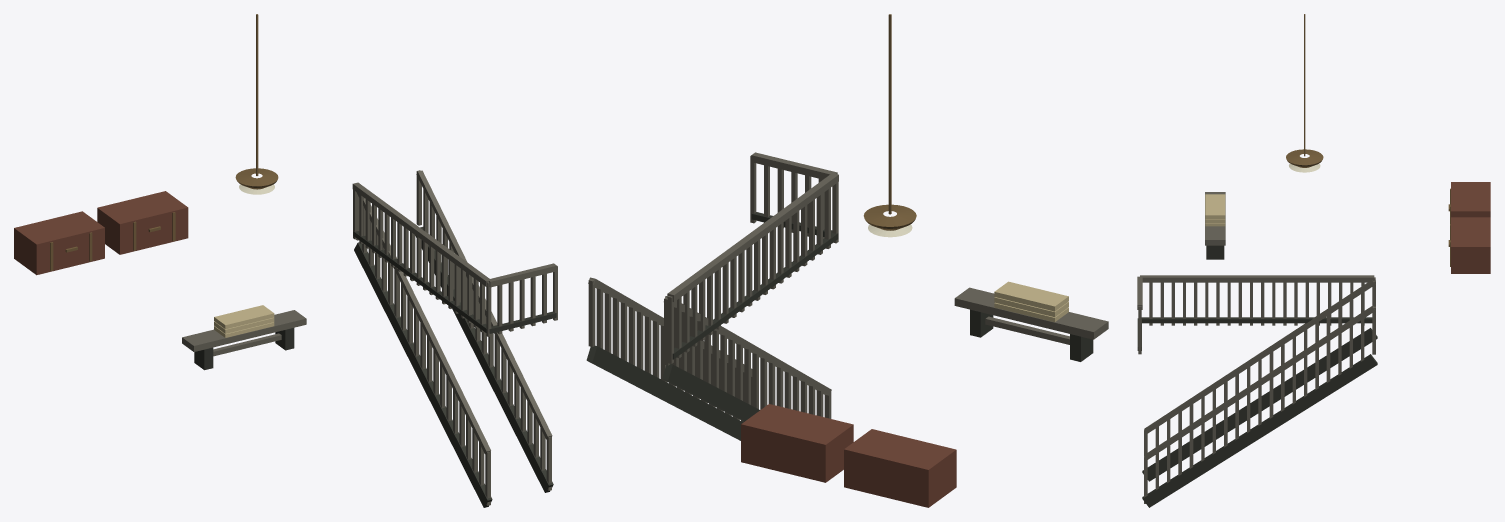
Rendered from upstairs_meadowinn.glb.
3 views of the same model, side by side, from view 1: azimuth 30°, elevation 25°; view 2: azimuth 150°, elevation 25°; view 3: azimuth 270°, elevation 25° (orthographic). The views are drawn at different scales.
Parts seen in each view (by area): view 1: upstairs_meadowinn; view 2: upstairs_meadowinn; view 3: upstairs_meadowinn.
Part boxes in pixels (x1,y1,x2,y2): upstairs_meadowinn: [14, 14, 557, 507]; upstairs_meadowinn: [586, 14, 1108, 507]; upstairs_meadowinn: [1137, 14, 1490, 507].
Size of the model in its own units: 7.01 by 9.03 by 7.12.
